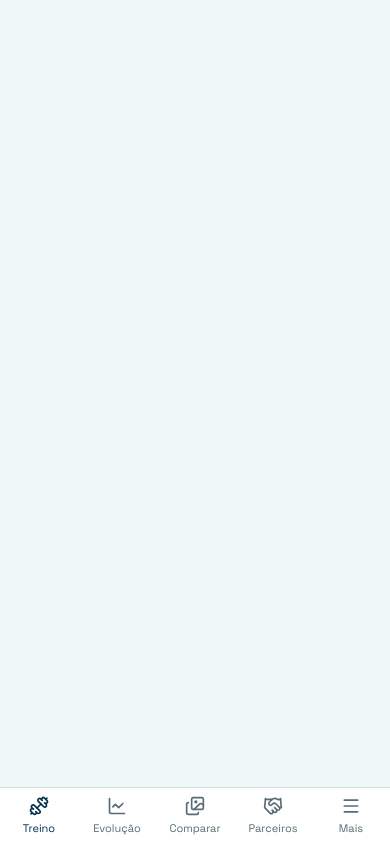
Scenario: MobileBottomNav › não exibe "Parceiros" no menu "Mais" para aluno
What coordinates should you click on to do the following:
click the button with aria-label "abrir mais opções"
I would click on:
 (351, 816)
Its box is [312,788,389,843].
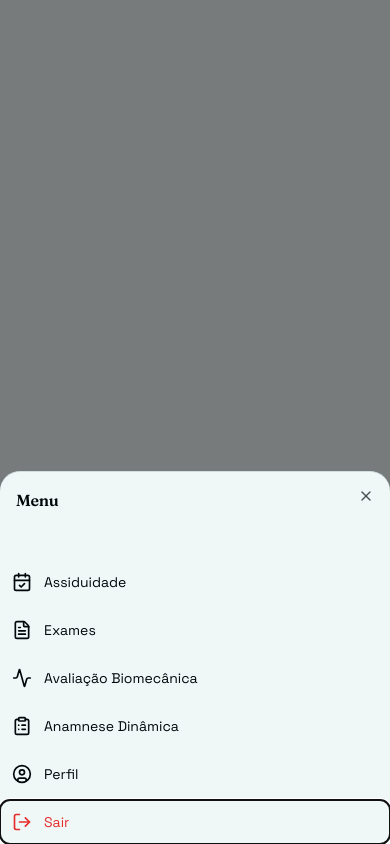
Check: the link "Exames" is shown, box [12,620,96,640]
